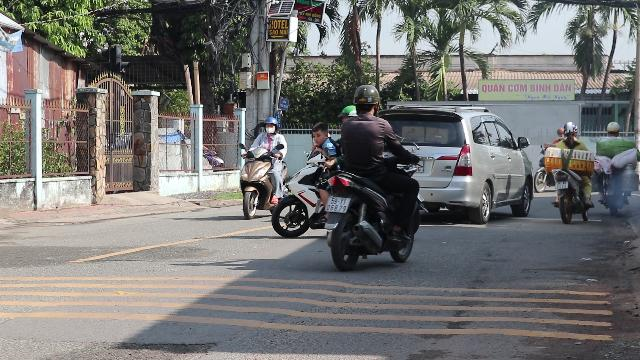helmet: (352, 84, 381, 116), (262, 116, 278, 134), (339, 105, 357, 119)
licenseplate: (325, 196, 349, 212)
motorcyclist: (320, 82, 424, 270), (236, 115, 288, 219)
nohelmet: (309, 122, 329, 148)
